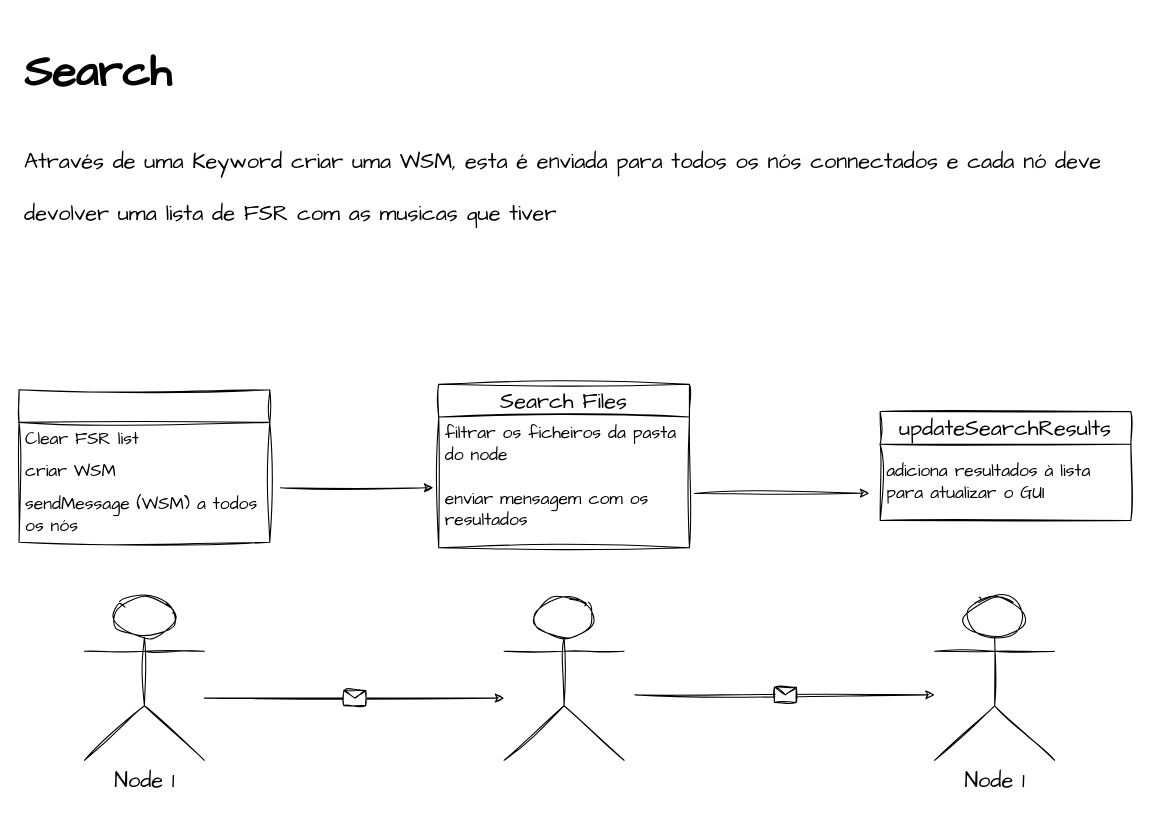
Image size: 1150x813. Some labels were removed from this diagram. The shapes that lost their labels are listed below. From the top down, each one's box as (x1, y1, x2, y2) in pixels, then its label:
(18, 389, 270, 542): Start Search
(503, 596, 624, 760): Node 2
